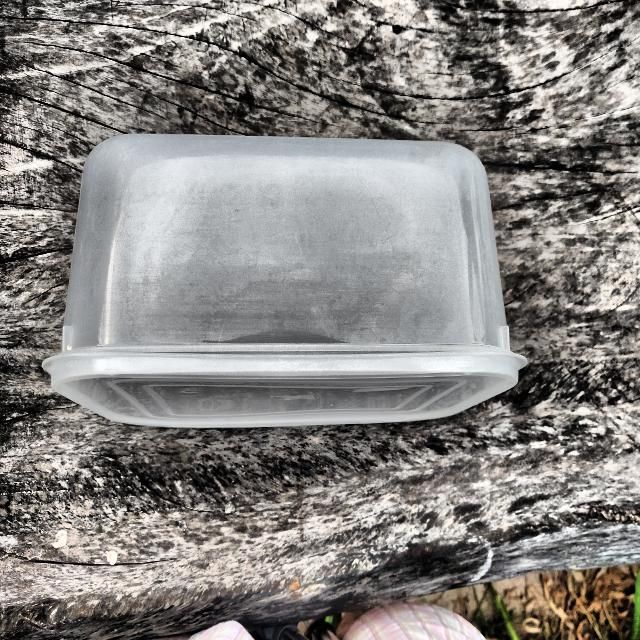plastic container: (50, 131, 514, 436)
